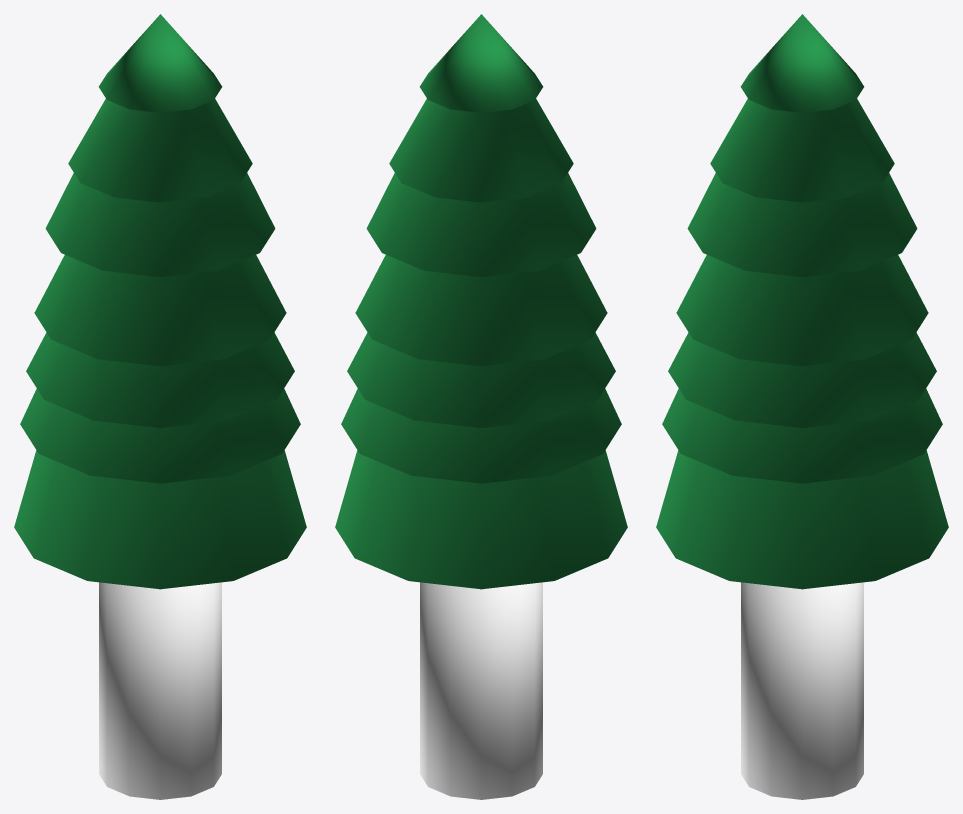
The model's file is tree1.glb.
3 views of the same model, side by side, from view 1: azimuth 30°, elevation 25°; view 2: azimuth 150°, elevation 25°; view 3: azimuth 270°, elevation 25° (orthographic).
Visible parts, largest first — view 1: Cylinder; view 2: Cylinder; view 3: Cylinder.
Boxes of the visible parts, x1,y1,x2,y2 form: Cylinder: (14,14,306,799); Cylinder: (335,14,627,799); Cylinder: (656,14,948,799).
Size of the model in its own units: 2.15 by 6.17 by 2.15.
